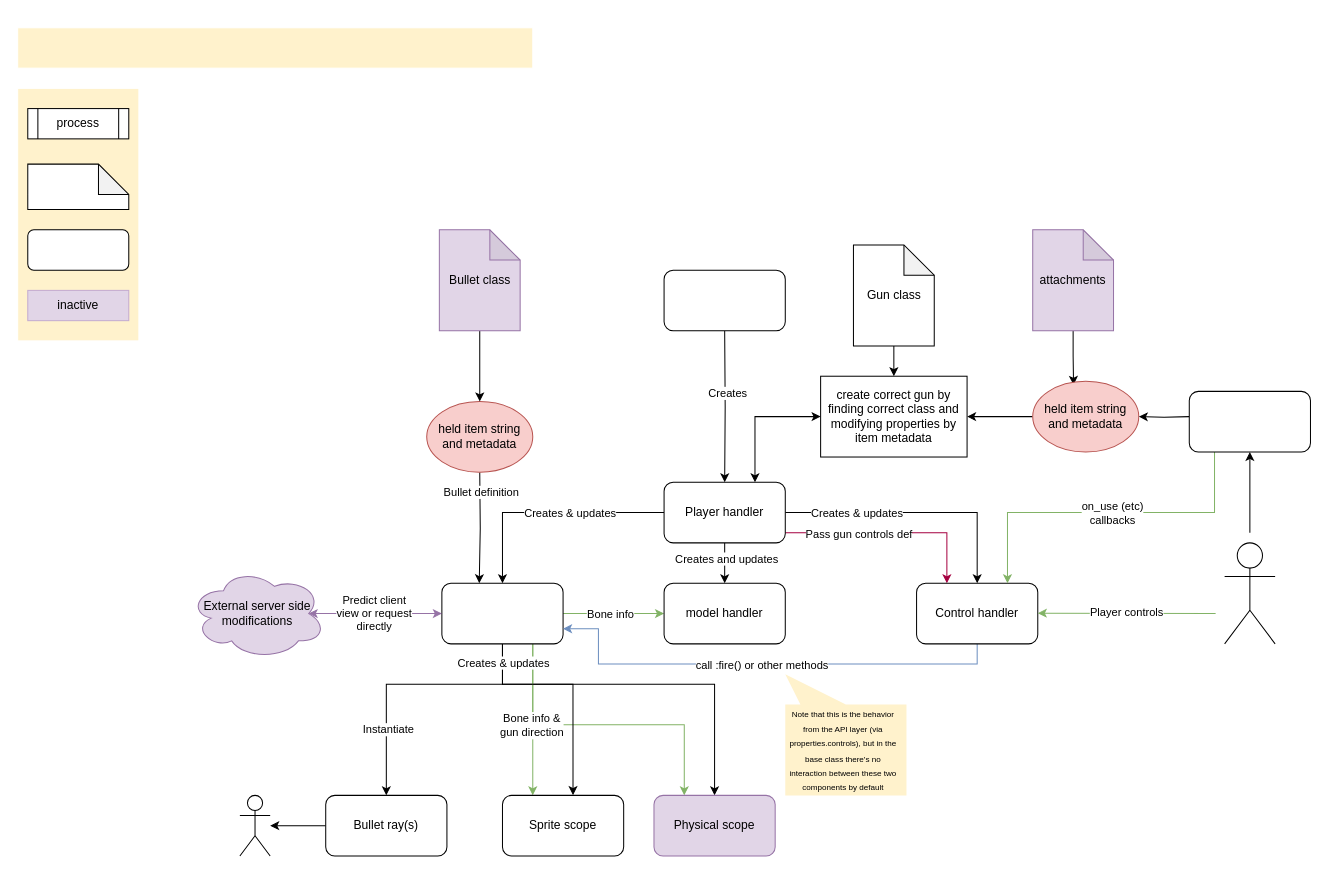
Image size: 1328x894. Some labels were removed from this diagram. The shapes that lost their labels are listed below. From the top down, each one's centre as x and y in pixels, then its label:
point (275, 47): guns4d structure specification diagram
point (78, 186): class
point (78, 249): Instance
point (724, 300): on joinplayer
point (1249, 421): Item / Itemstack
point (502, 613): Gun
point (1249, 593): Gun holder
point (254, 825): Target or node
